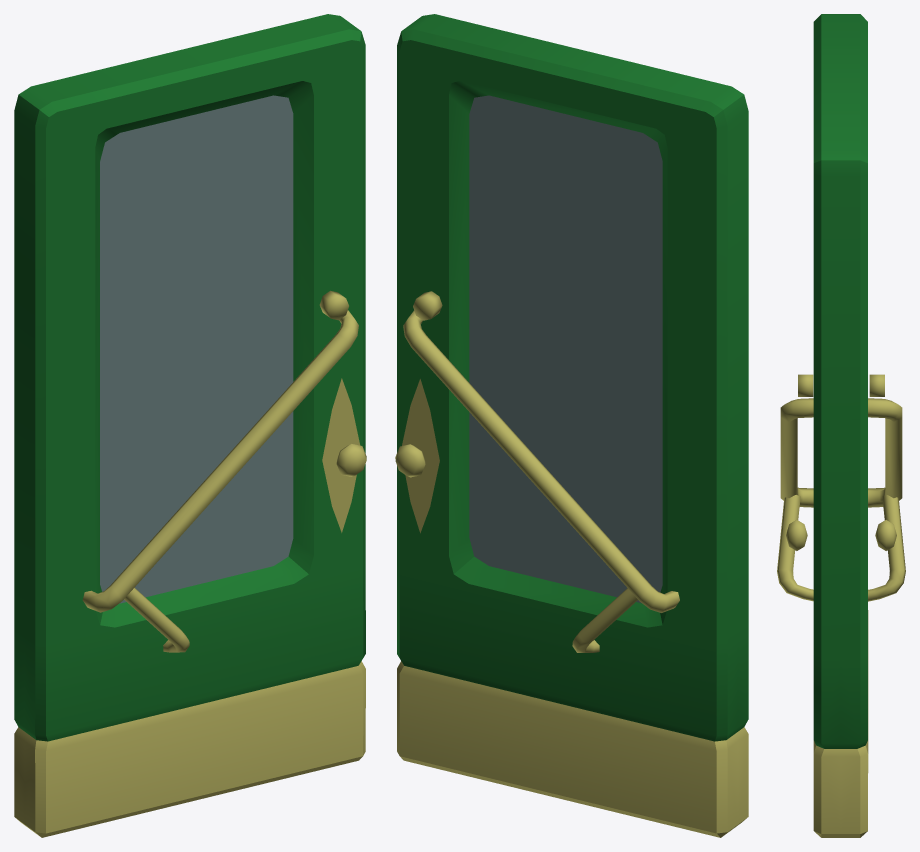
Rendered from ME_GreenDoor.fbx.
3 views of the same model, side by side, from view 1: azimuth 30°, elevation 25°; view 2: azimuth 150°, elevation 25°; view 3: azimuth 270°, elevation 25° (orthographic). The views are drawn at different scales.
Visible parts, largest first — view 1: ME_GreenDoor; view 2: ME_GreenDoor; view 3: ME_GreenDoor.
Boxes of the visible parts, x1,y1,x2,y2 form: ME_GreenDoor: [14, 14, 366, 837]; ME_GreenDoor: [395, 14, 748, 837]; ME_GreenDoor: [777, 14, 905, 837].
Bounding box in the file's own units: 11777 × 24966 × 4271.
